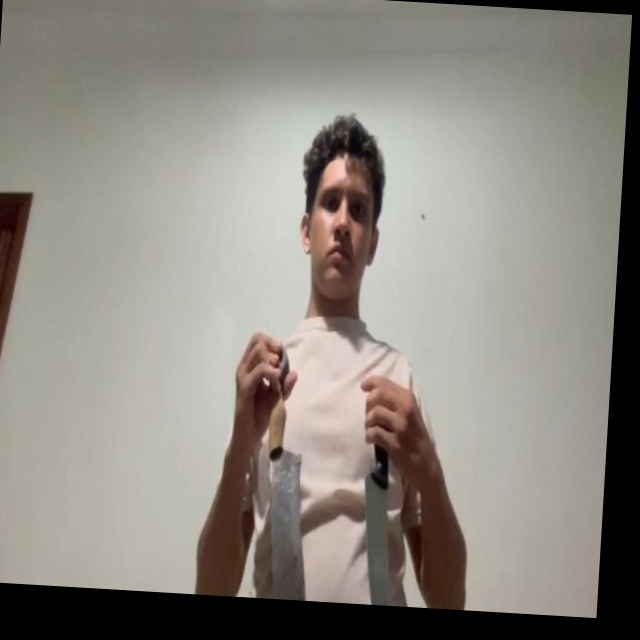Sharp-Object: (260, 449, 314, 601), (356, 472, 395, 606)
